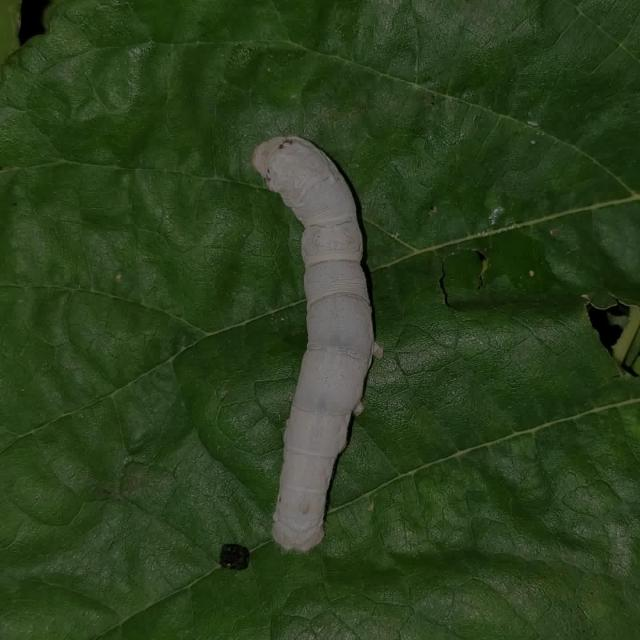Healthy: (231, 117, 398, 568)
